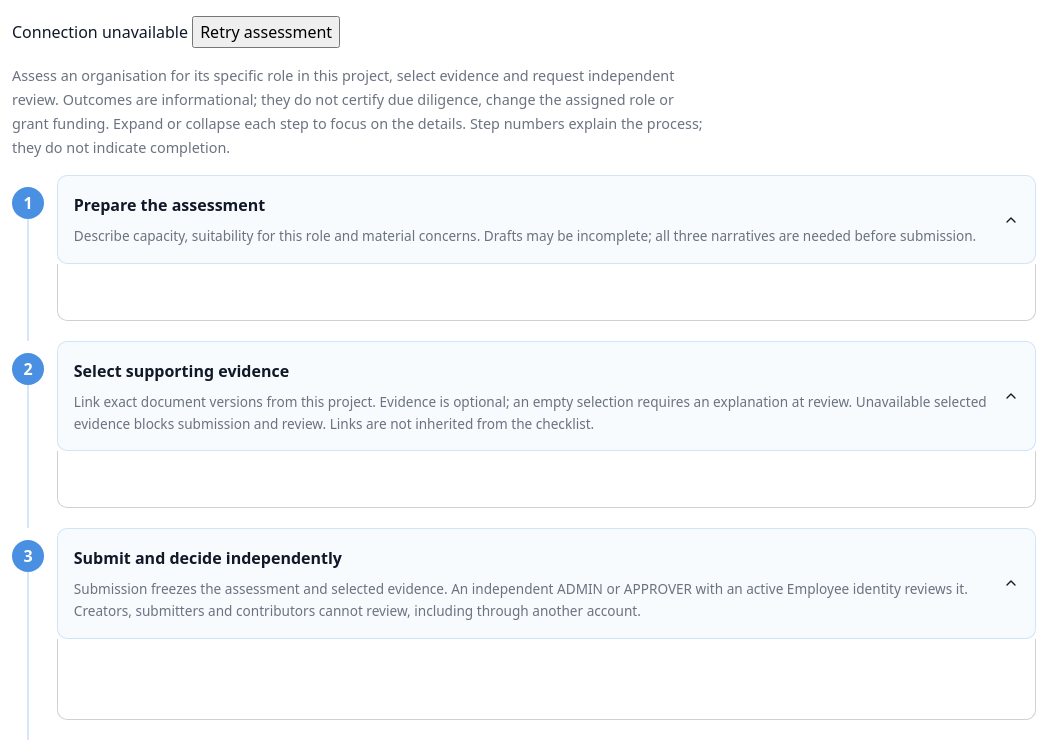
Scenario: a failed load offers Retry and reconnecting refreshes again
Click the button "Retry assessment" at (266,32), box [192,16,340,48]
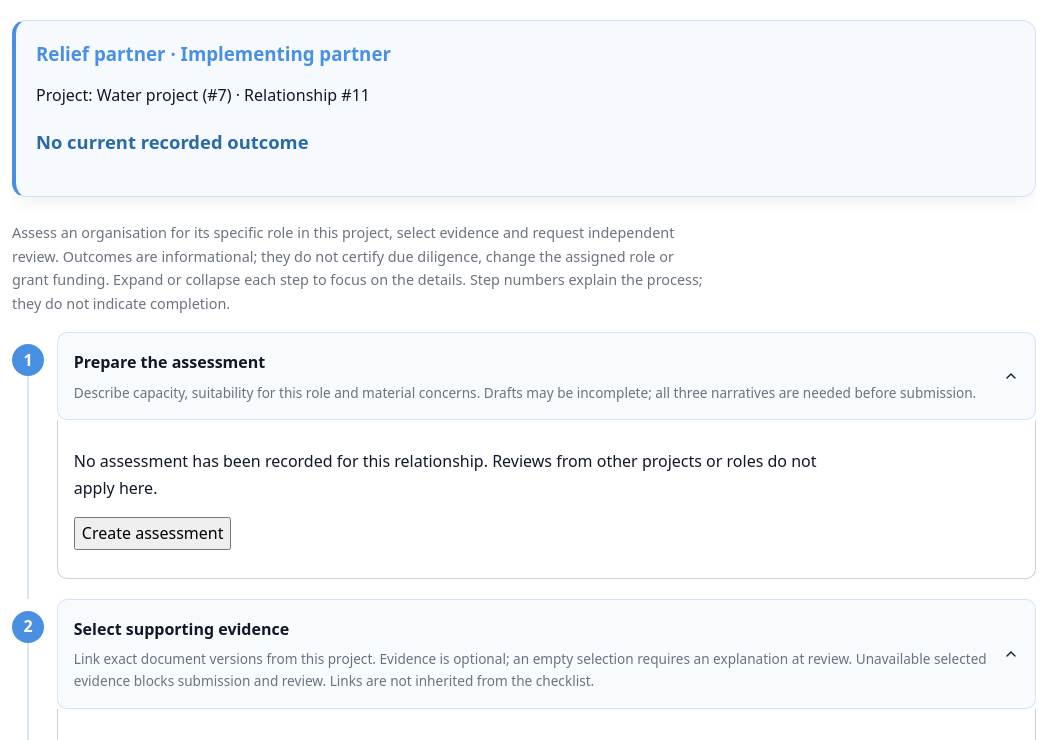
Check: the text "Project: Water project (#7) · Relationship #11" is shown, box [36,84,370,106]
Check: the button "Retry assessment" is gone
